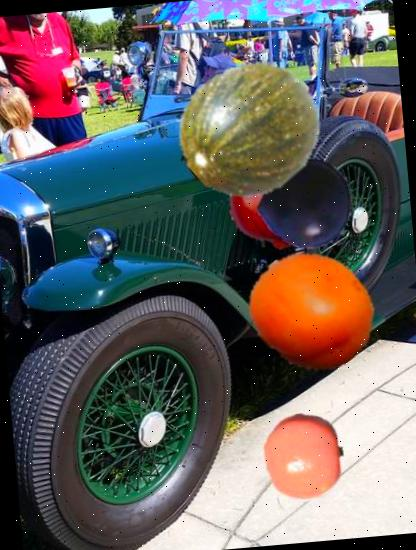Apricot: (243, 244, 380, 380)
Clementine: (257, 410, 353, 506)
Grape: (258, 154, 356, 252)
Melon: (173, 52, 328, 207)
Pomegranate: (225, 149, 330, 254)
Strawberry: (181, 98, 293, 210)
